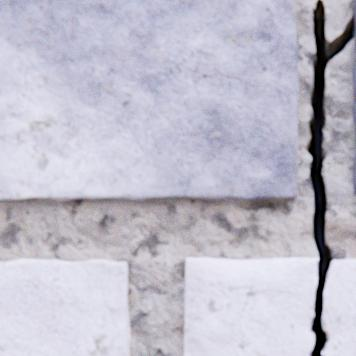brick: (0, 0, 299, 201), (0, 259, 131, 355), (353, 60, 355, 140), (353, 151, 355, 194), (354, 0, 355, 32)
broken_brick: (185, 258, 318, 355), (321, 259, 355, 355)
crack: (306, 0, 355, 355)
